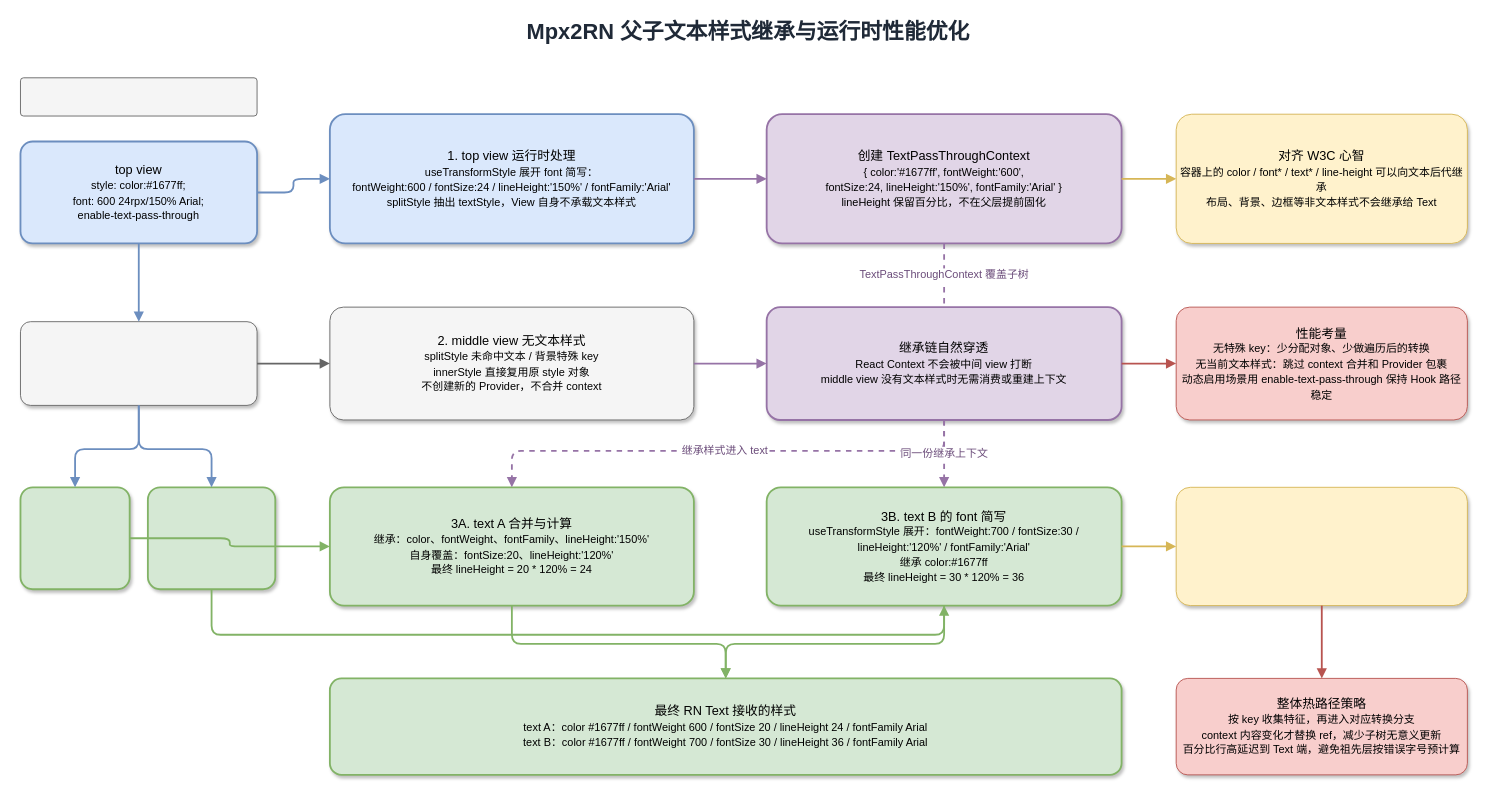
Some shapes in this 1489 by 797 pixel diagram are drawn without their labels. Here are the shapes that lost their labels. From the top down, the centre of each, then its label:
point (138, 96): 示例节点树
point (139, 364): middle view style: padding:16rpx; 没有 color / font / text / lineHeight
point (75, 539): text A style: font-size:20rpx; line-height:120%; 文字 A
point (212, 539): text B style: font:700 30rpx/1.2 Arial; 文字 B
point (1322, 547): 覆盖顺序接近 CSS 级联 父级继承样式先合并 子 text 自身样式后合并并覆盖 百分比 line-height 等最终 fontSize 确定后再解析
